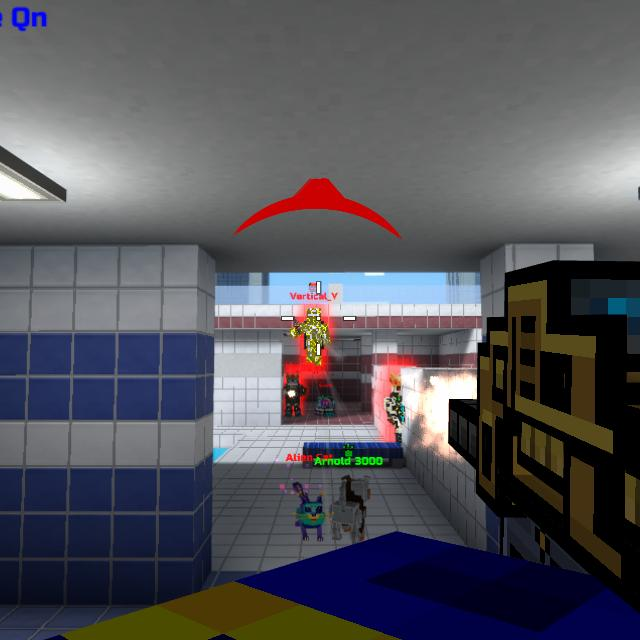Enemy: (296, 309, 330, 366), (383, 376, 411, 444), (281, 374, 305, 417)
